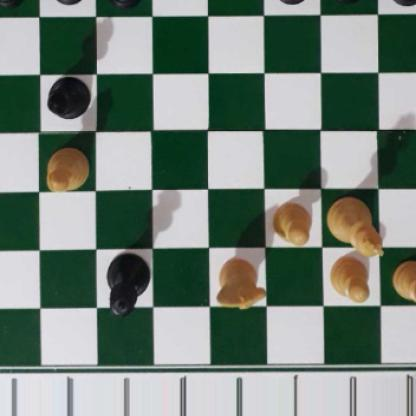black-bishop: (46, 77, 91, 120)
black-pawn: (105, 0, 142, 6), (48, 0, 85, 5), (388, 0, 416, 6), (0, 0, 26, 5), (273, 0, 311, 2), (330, 0, 368, 1)
black-queen: (108, 250, 150, 319)
white-bishop: (45, 145, 89, 194)
white-king: (327, 198, 385, 257)
white-knight: (214, 257, 266, 309)
white-pawn: (327, 256, 372, 304), (272, 200, 312, 244), (391, 258, 416, 304)
